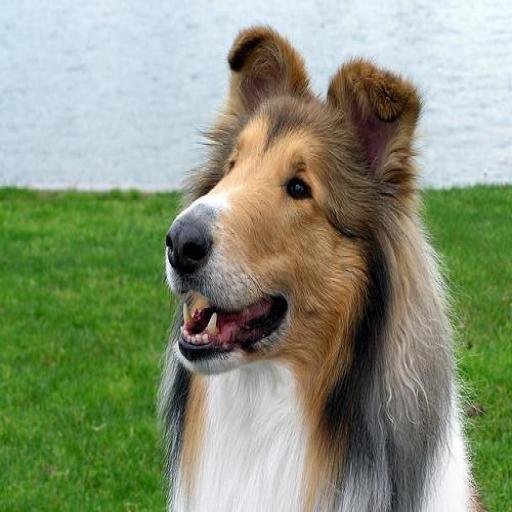dog_face: (161, 28, 404, 366)
